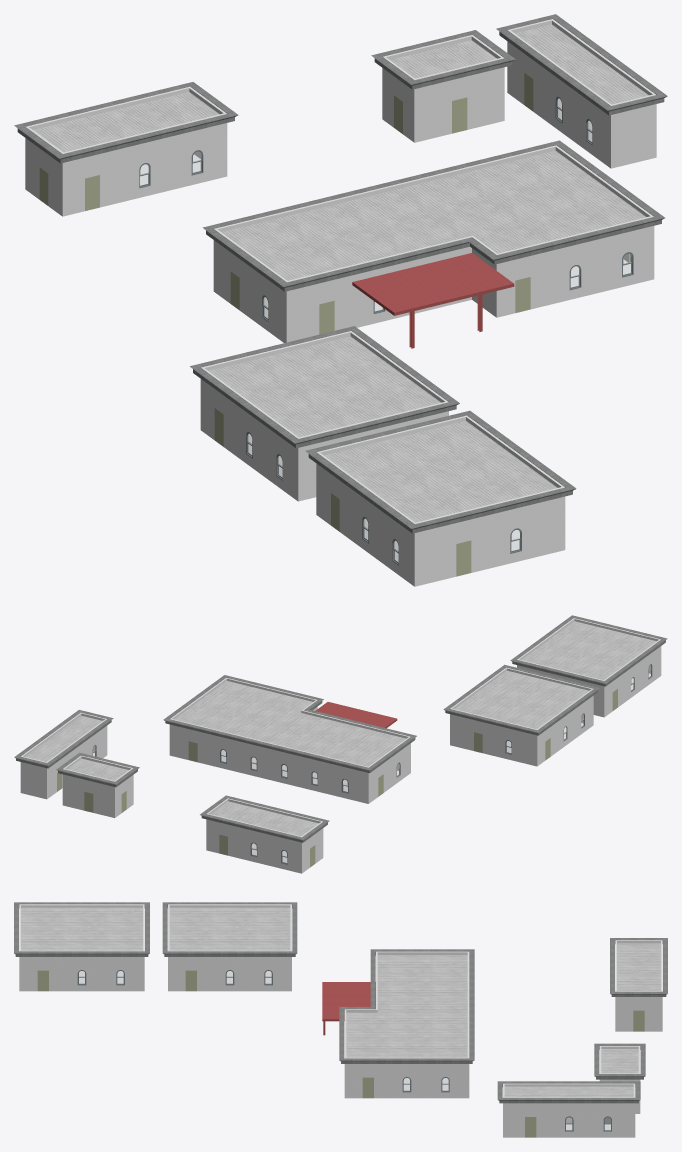
File: Plan(REF)_levels(1)_window(W Arch Head 23_3-5)_wall(WAFRA WALL)_quoin(N)_cornice(Y).fbx
3 views of the same model, one above another, from view 1: azimuth 30°, elevation 25°; view 2: azimuth 150°, elevation 25°; view 3: azimuth 270°, elevation 25° (orthographic). The views are drawn at different scales.
Parts seen in each view (by area): view 1: WAFRA Stucco - White Rough 23, WAFRA Roof - Corrugated Sheet Matte 23, Concrete - Structural, WAFRA Roof - Standing Seam Red Coat 23, Color - Beige, Metal - Finish - Aluminum, Glass - Clear; view 2: WAFRA Stucco - White Rough 23, WAFRA Roof - Corrugated Sheet Matte 23, Concrete - Structural, Color - Beige, WAFRA Roof - Standing Seam Red Coat 23, Metal - Finish - Aluminum, Glass - Clear; view 3: WAFRA Roof - Corrugated Sheet Matte 23, WAFRA Stucco - White Rough 23, Concrete - Structural, WAFRA Roof - Standing Seam Red Coat 23, Color - Beige, Metal - Finish - Aluminum, Glass - Clear.
Boxes of the visible parts, bbox=[...] form: WAFRA Stucco - White Rough 23: bbox=[25, 19, 656, 586]; WAFRA Roof - Corrugated Sheet Matte 23: bbox=[33, 24, 648, 522]; Concrete - Structural: bbox=[14, 14, 667, 533]; WAFRA Roof - Standing Seam Red Coat 23: bbox=[352, 253, 514, 348]; Color - Beige: bbox=[39, 73, 630, 576]; Metal - Finish - Aluminum: bbox=[139, 96, 633, 565]; Glass - Clear: bbox=[140, 98, 631, 561]; WAFRA Stucco - White Rough 23: bbox=[20, 618, 661, 873]; WAFRA Roof - Corrugated Sheet Matte 23: bbox=[25, 621, 656, 836]; Concrete - Structural: bbox=[14, 615, 667, 842]; Color - Beige: bbox=[57, 689, 617, 867]; WAFRA Roof - Standing Seam Red Coat 23: bbox=[315, 702, 397, 728]; Metal - Finish - Aluminum: bbox=[92, 664, 652, 864]; Glass - Clear: bbox=[93, 665, 650, 862]; WAFRA Roof - Corrugated Sheet Matte 23: bbox=[21, 907, 660, 1096]; WAFRA Stucco - White Rough 23: bbox=[19, 904, 662, 1137]; Concrete - Structural: bbox=[14, 902, 667, 1103]; WAFRA Roof - Standing Seam Red Coat 23: bbox=[322, 982, 375, 1035]; Color - Beige: bbox=[37, 970, 644, 1137]; Metal - Finish - Aluminum: bbox=[77, 970, 611, 1131]; Glass - Clear: bbox=[79, 971, 610, 1129].
Size of the model in its own units: 4244 by 5930 by 400.
12 materials, 5 textured.
